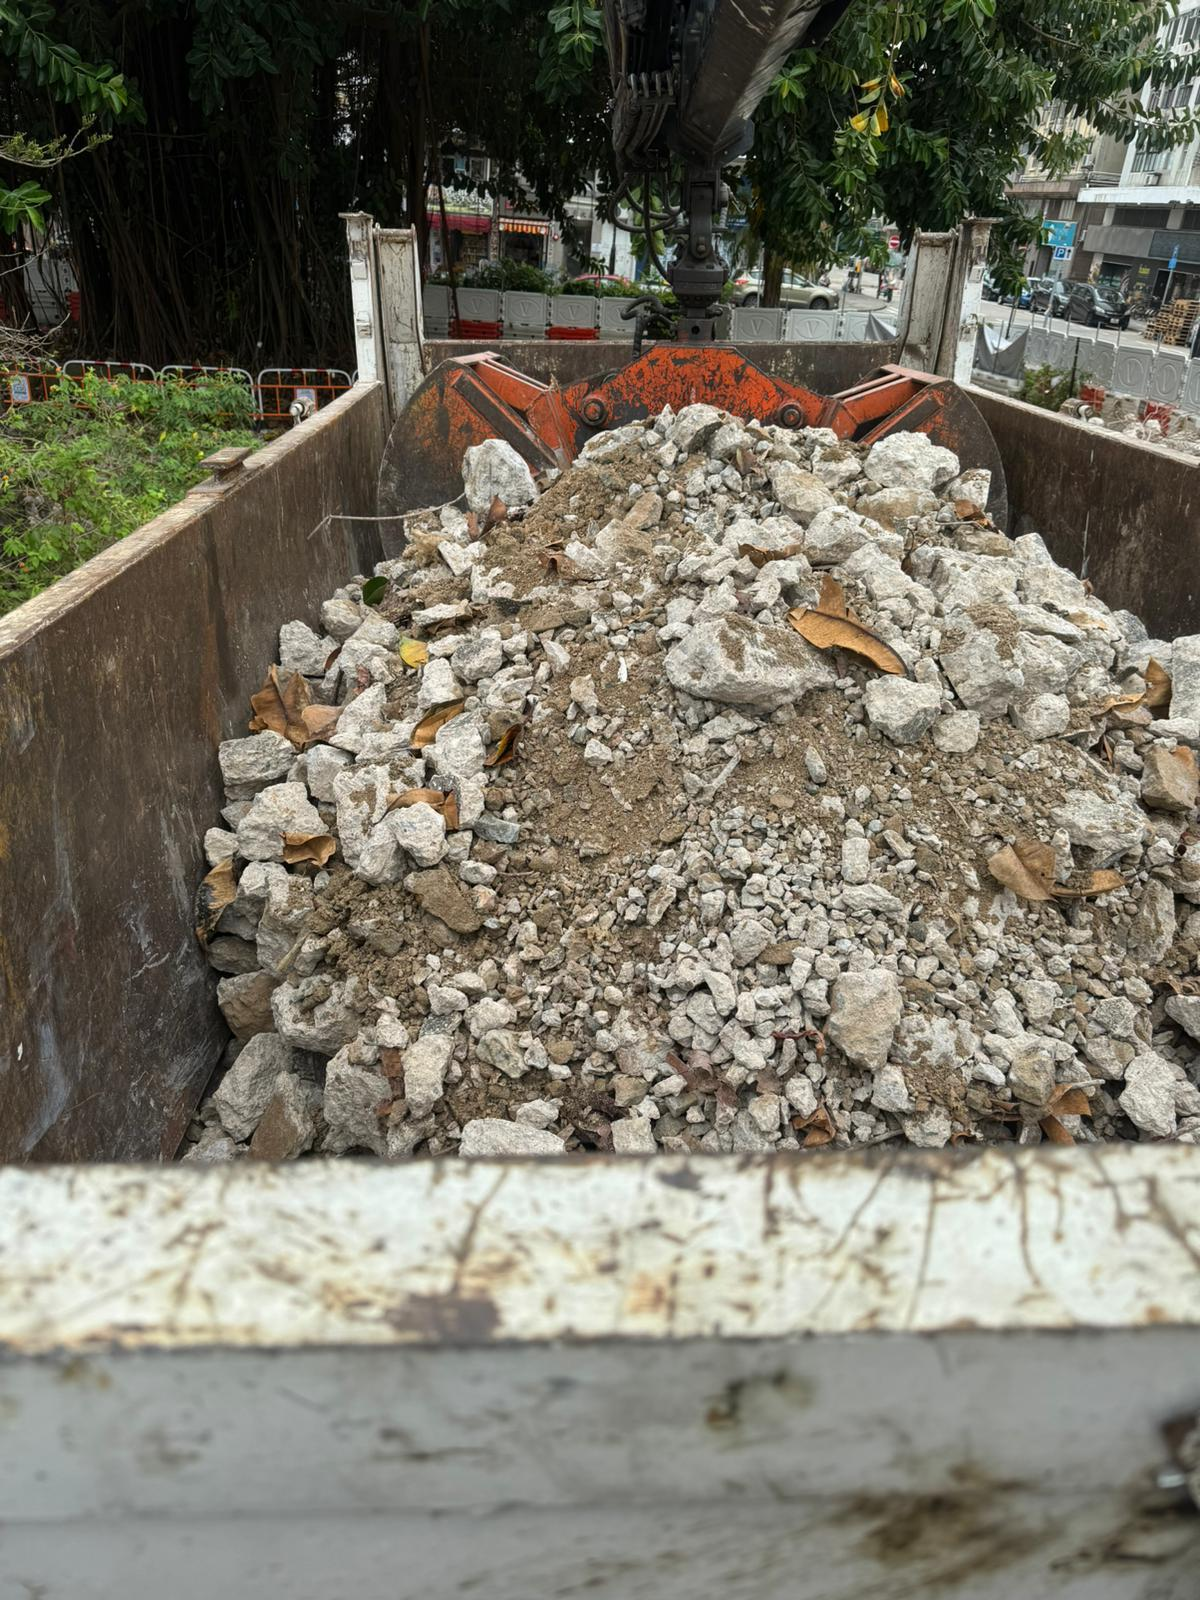stone: (185, 400, 1199, 1158), (661, 609, 840, 709)
